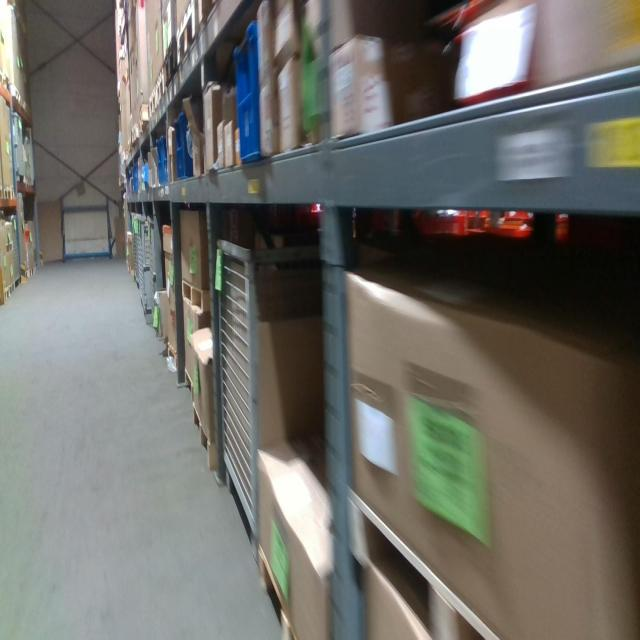pallet: (343, 487, 501, 637), (256, 540, 300, 638), (193, 399, 219, 470), (177, 1, 200, 69), (180, 278, 213, 317), (163, 37, 176, 98), (197, 1, 221, 28), (185, 364, 199, 402), (156, 67, 164, 107), (148, 83, 156, 120), (8, 280, 15, 299), (4, 285, 9, 304)
small_load_carrier: (236, 23, 262, 164), (172, 106, 196, 181), (162, 130, 172, 192), (156, 132, 163, 192), (133, 162, 141, 193)
stillage: (212, 229, 326, 564), (147, 216, 170, 342), (136, 218, 156, 319), (11, 101, 27, 178), (9, 212, 23, 288), (129, 209, 141, 289), (27, 123, 36, 189)
